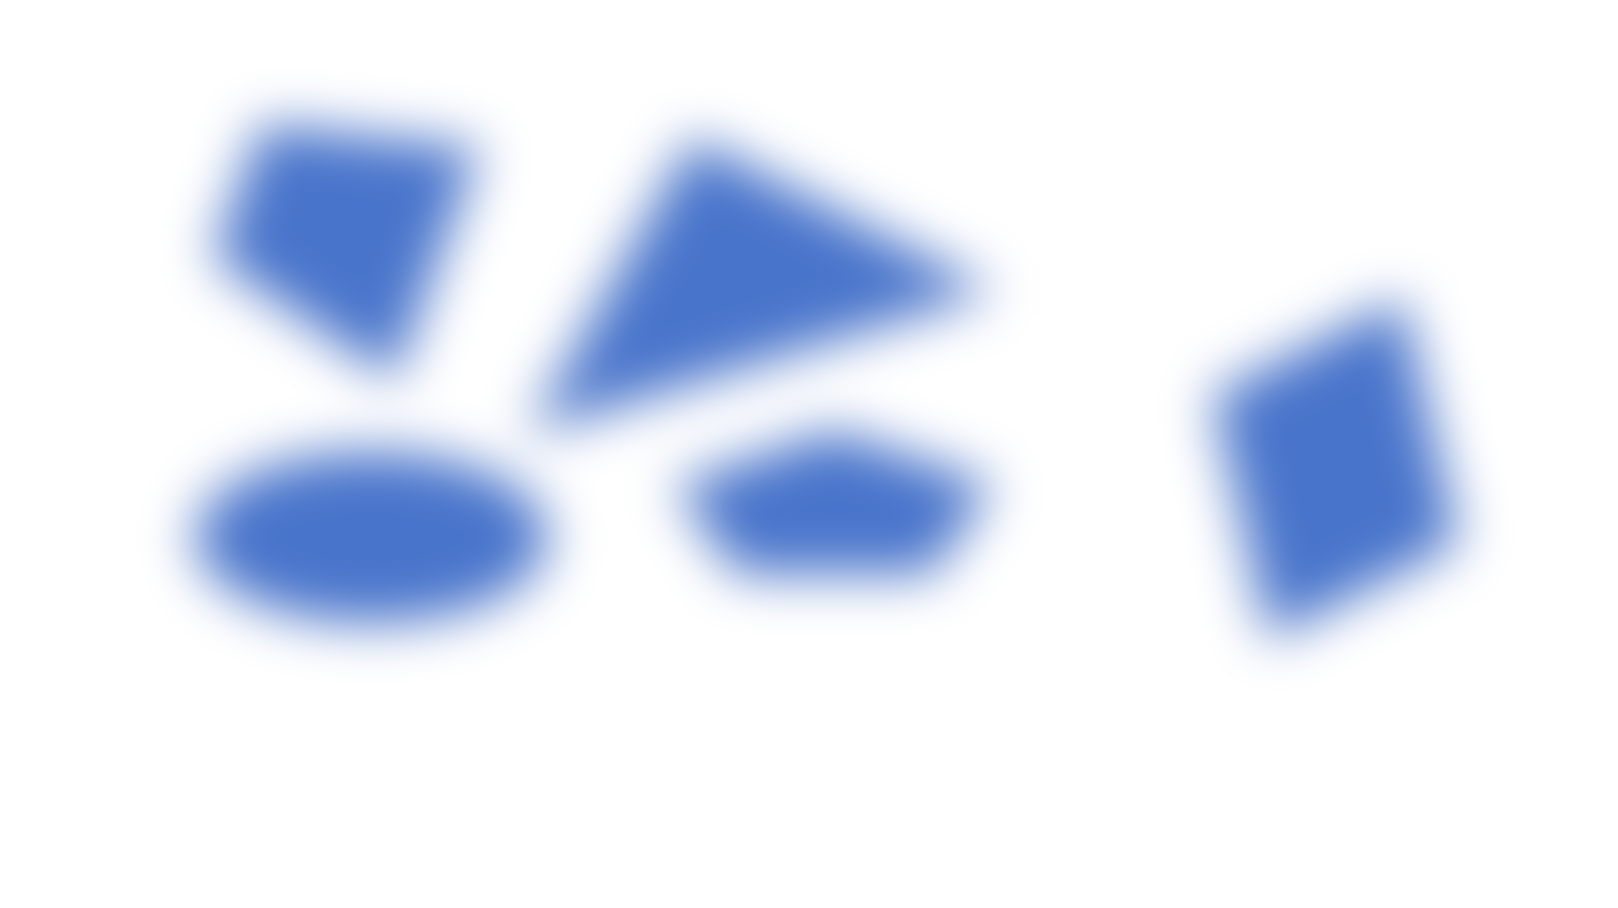circle: (154, 425, 567, 638)
parallelogram: (1173, 272, 1489, 665)
pentagon: (689, 406, 1010, 615)
trapezium: (198, 94, 485, 375)
triangle: (542, 127, 977, 402)
